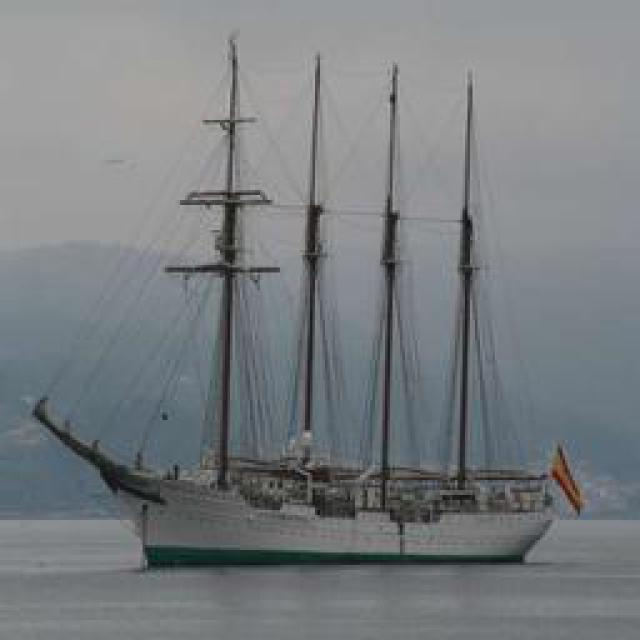Ship: (61, 27, 586, 565)
